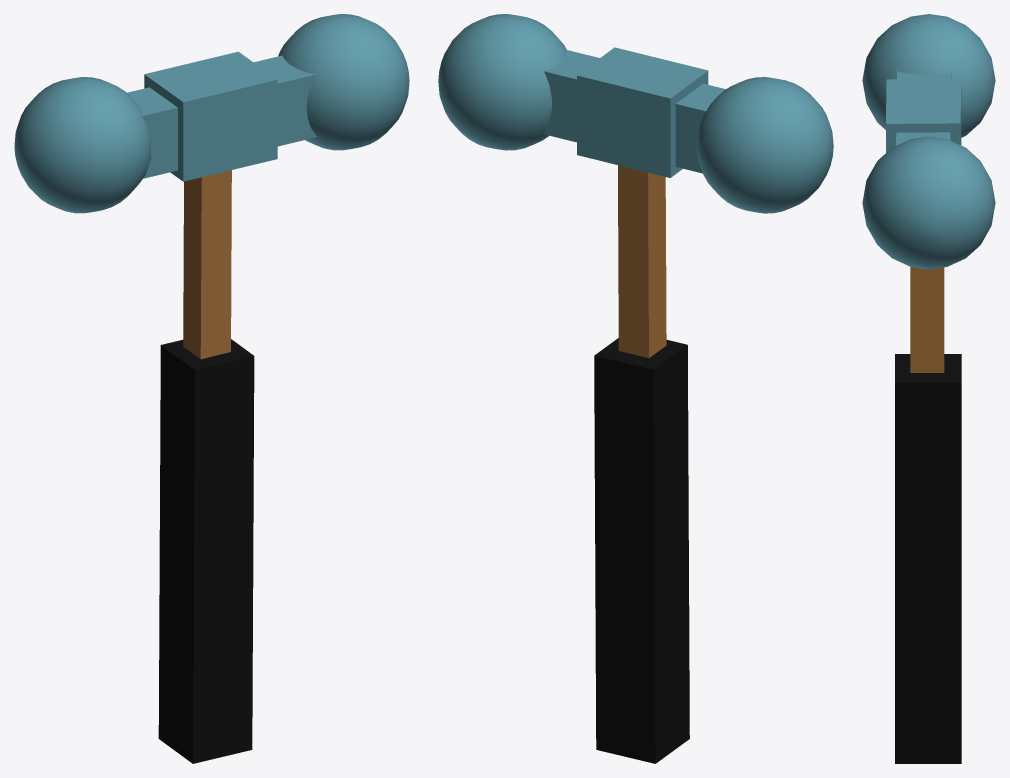
File: hhh.fbx
3 views of the same model, side by side, from view 1: azimuth 30°, elevation 25°; view 2: azimuth 150°, elevation 25°; view 3: azimuth 270°, elevation 25° (orthographic). The views are drawn at different scales.
Visible parts, largest first — view 1: HammerUV, pSphere1, pSphere2, pCube8, pCube4, pCube5; view 2: HammerUV, pSphere1, pSphere2, pCube8, pCube4, pCube5; view 3: HammerUV, pSphere2, pSphere1, pCube8, pCube4, pCube5.
Boxes of the visible parts, box(x1,y1,x2,y2) form: HammerUV: box(158, 339, 254, 763); pSphere1: box(14, 77, 151, 213); pSphere2: box(278, 14, 409, 150); pCube8: box(144, 51, 277, 181); pCube4: box(183, 170, 231, 359); pCube5: box(127, 55, 316, 178); HammerUV: box(594, 338, 689, 763); pSphere1: box(696, 77, 833, 213); pSphere2: box(438, 14, 566, 150); pCube8: box(577, 47, 708, 177); pCube4: box(618, 165, 666, 358); pCube5: box(543, 49, 725, 173); HammerUV: box(895, 354, 961, 763); pSphere2: box(862, 136, 995, 269); pSphere1: box(862, 14, 995, 137); pCube8: box(886, 78, 961, 152); pCube4: box(910, 267, 944, 372); pCube5: box(896, 71, 951, 145).
Size of the model in its own units: 6.35 by 11.13 by 2.
